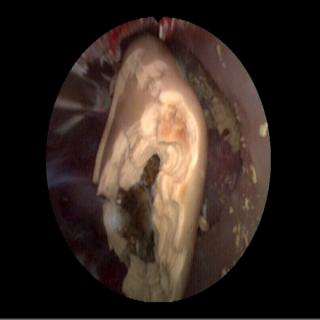stone: (93, 36, 210, 300), (190, 72, 240, 151), (260, 122, 267, 137)
tissue: (172, 24, 267, 290), (49, 113, 121, 289)
